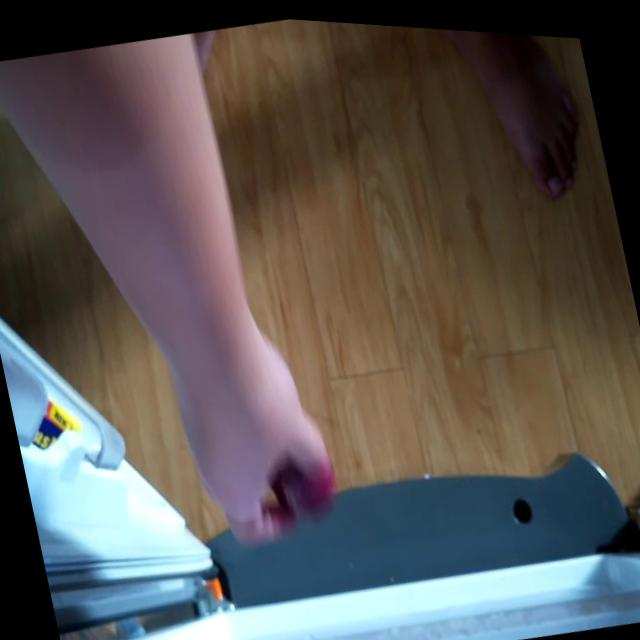onion: (270, 435, 343, 521)
